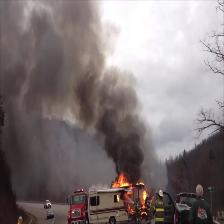fire: (110, 169, 153, 217)
smoke: (4, 2, 151, 166)
